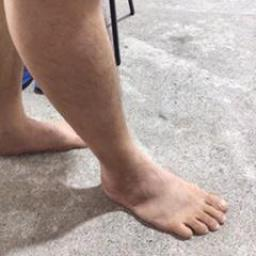Lateral View -Right Foot-: (77, 136, 236, 248)
